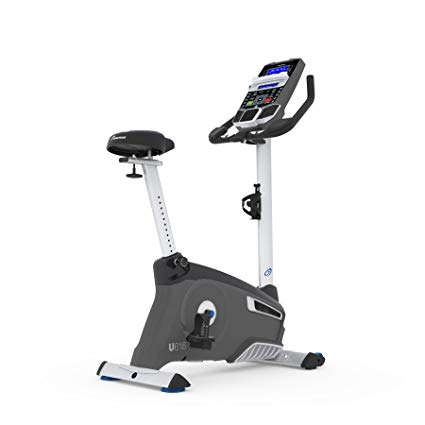gym_bike: (83, 46, 347, 404)
